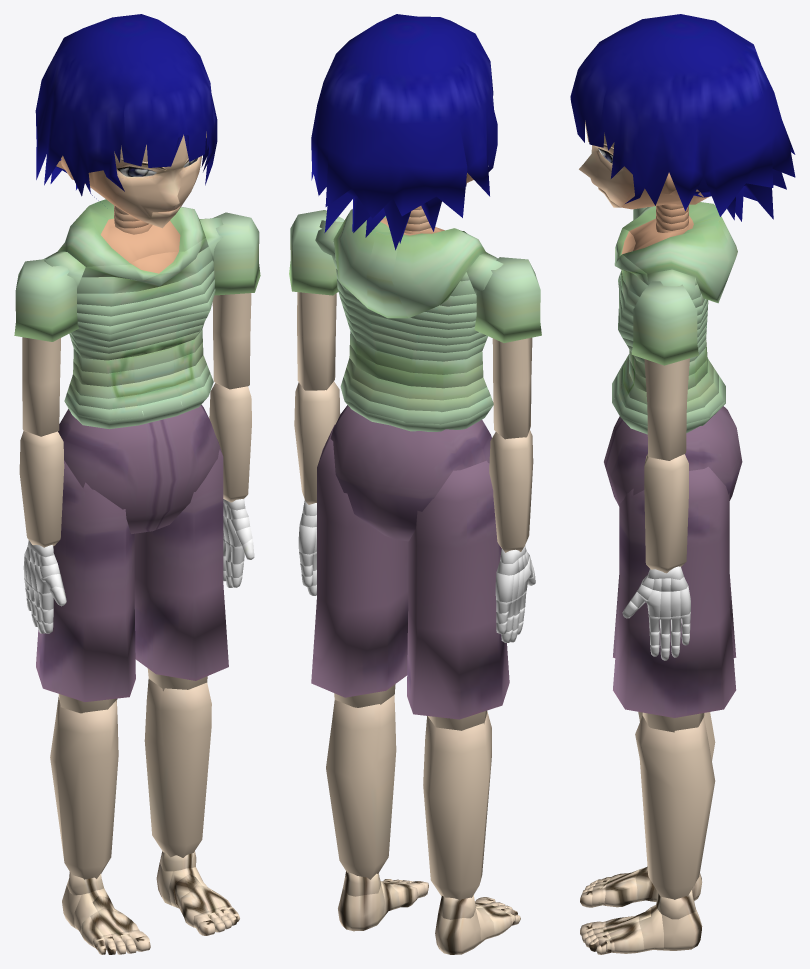
File: JinLOA4.glb
The picture shows the model from 3 angles, left to right: view 1: azimuth 30°, elevation 25°; view 2: azimuth 150°, elevation 25°; view 3: azimuth 270°, elevation 25°; orthographic projection. The views are drawn at different scales.
Parts seen in each view (by area): view 1: Shape_IndexedFaceSet.082, Shape_IndexedFaceSet.030, Shape_IndexedFaceSet.002, Shape_IndexedFaceSet.001, Shape_IndexedFaceSet.003, Shape_IndexedFaceSet.031, Shape_IndexedFaceSet.120, Shape_IndexedFaceSet.092, Shape_IndexedFaceSet.074, Shape_IndexedFaceSet.121, Shape_IndexedFaceSet.093, Shape_IndexedFaceSet.073 (+18 smaller); view 2: Shape_IndexedFaceSet.082, Shape_IndexedFaceSet.030, Shape_IndexedFaceSet.002, Shape_IndexedFaceSet.001, Shape_IndexedFaceSet.031, Shape_IndexedFaceSet.003, Shape_IndexedFaceSet.074, Shape_IndexedFaceSet.120, Shape_IndexedFaceSet.092, Shape_IndexedFaceSet.121, Shape_IndexedFaceSet.093, Shape_IndexedFaceSet.059 (+17 smaller); view 3: Shape_IndexedFaceSet.082, Shape_IndexedFaceSet.002, Shape_IndexedFaceSet.003, Shape_IndexedFaceSet.092, Shape_IndexedFaceSet.074, Shape_IndexedFaceSet.001, Shape_IndexedFaceSet.093, Shape_IndexedFaceSet.020, Shape_IndexedFaceSet.059, Shape_IndexedFaceSet.060, Shape_IndexedFaceSet.061, Shape_IndexedFaceSet.073 (+7 smaller).
Part boxes in pixels (x1,y1,x2,y2): Shape_IndexedFaceSet.082: (35,14,217,221); Shape_IndexedFaceSet.030: (36,460,135,713); Shape_IndexedFaceSet.002: (134,438,228,691); Shape_IndexedFaceSet.001: (58,404,221,533); Shape_IndexedFaceSet.003: (144,679,211,857); Shape_IndexedFaceSet.031: (50,697,118,879); Shape_IndexedFaceSet.120: (14,259,78,436); Shape_IndexedFaceSet.092: (212,212,260,389); Shape_IndexedFaceSet.074: (58,199,205,266); Shape_IndexedFaceSet.121: (19,431,64,547); Shape_IndexedFaceSet.093: (209,383,251,502); Shape_IndexedFaceSet.073: (82,238,208,280); Shape_IndexedFaceSet.082: (311,14,497,250); Shape_IndexedFaceSet.030: (407,460,509,730); Shape_IndexedFaceSet.002: (311,425,408,707); Shape_IndexedFaceSet.001: (330,405,491,541); Shape_IndexedFaceSet.031: (423,712,491,900); Shape_IndexedFaceSet.003: (326,695,396,879); Shape_IndexedFaceSet.074: (333,209,485,318); Shape_IndexedFaceSet.120: (474,257,541,439); Shape_IndexedFaceSet.092: (289,210,344,390); Shape_IndexedFaceSet.121: (489,430,533,552); Shape_IndexedFaceSet.093: (294,381,340,504); Shape_IndexedFaceSet.059: (340,377,493,424); Shape_IndexedFaceSet.082: (570,14,795,221); Shape_IndexedFaceSet.002: (613,466,736,732); Shape_IndexedFaceSet.003: (635,716,715,899); Shape_IndexedFaceSet.092: (631,281,698,460); Shape_IndexedFaceSet.074: (622,202,737,303); Shape_IndexedFaceSet.001: (604,406,742,506); Shape_IndexedFaceSet.093: (644,454,688,573); Shape_IndexedFaceSet.020: (661,909,702,950); Shape_IndexedFaceSet.059: (612,361,724,425); Shape_IndexedFaceSet.060: (617,354,718,415); Shape_IndexedFaceSet.061: (623,355,713,404); Shape_IndexedFaceSet.073: (615,228,697,285).
Bounding box in the file's own units: 20.83 × 71.56 × 16.3.
1 material, 1 textured.
